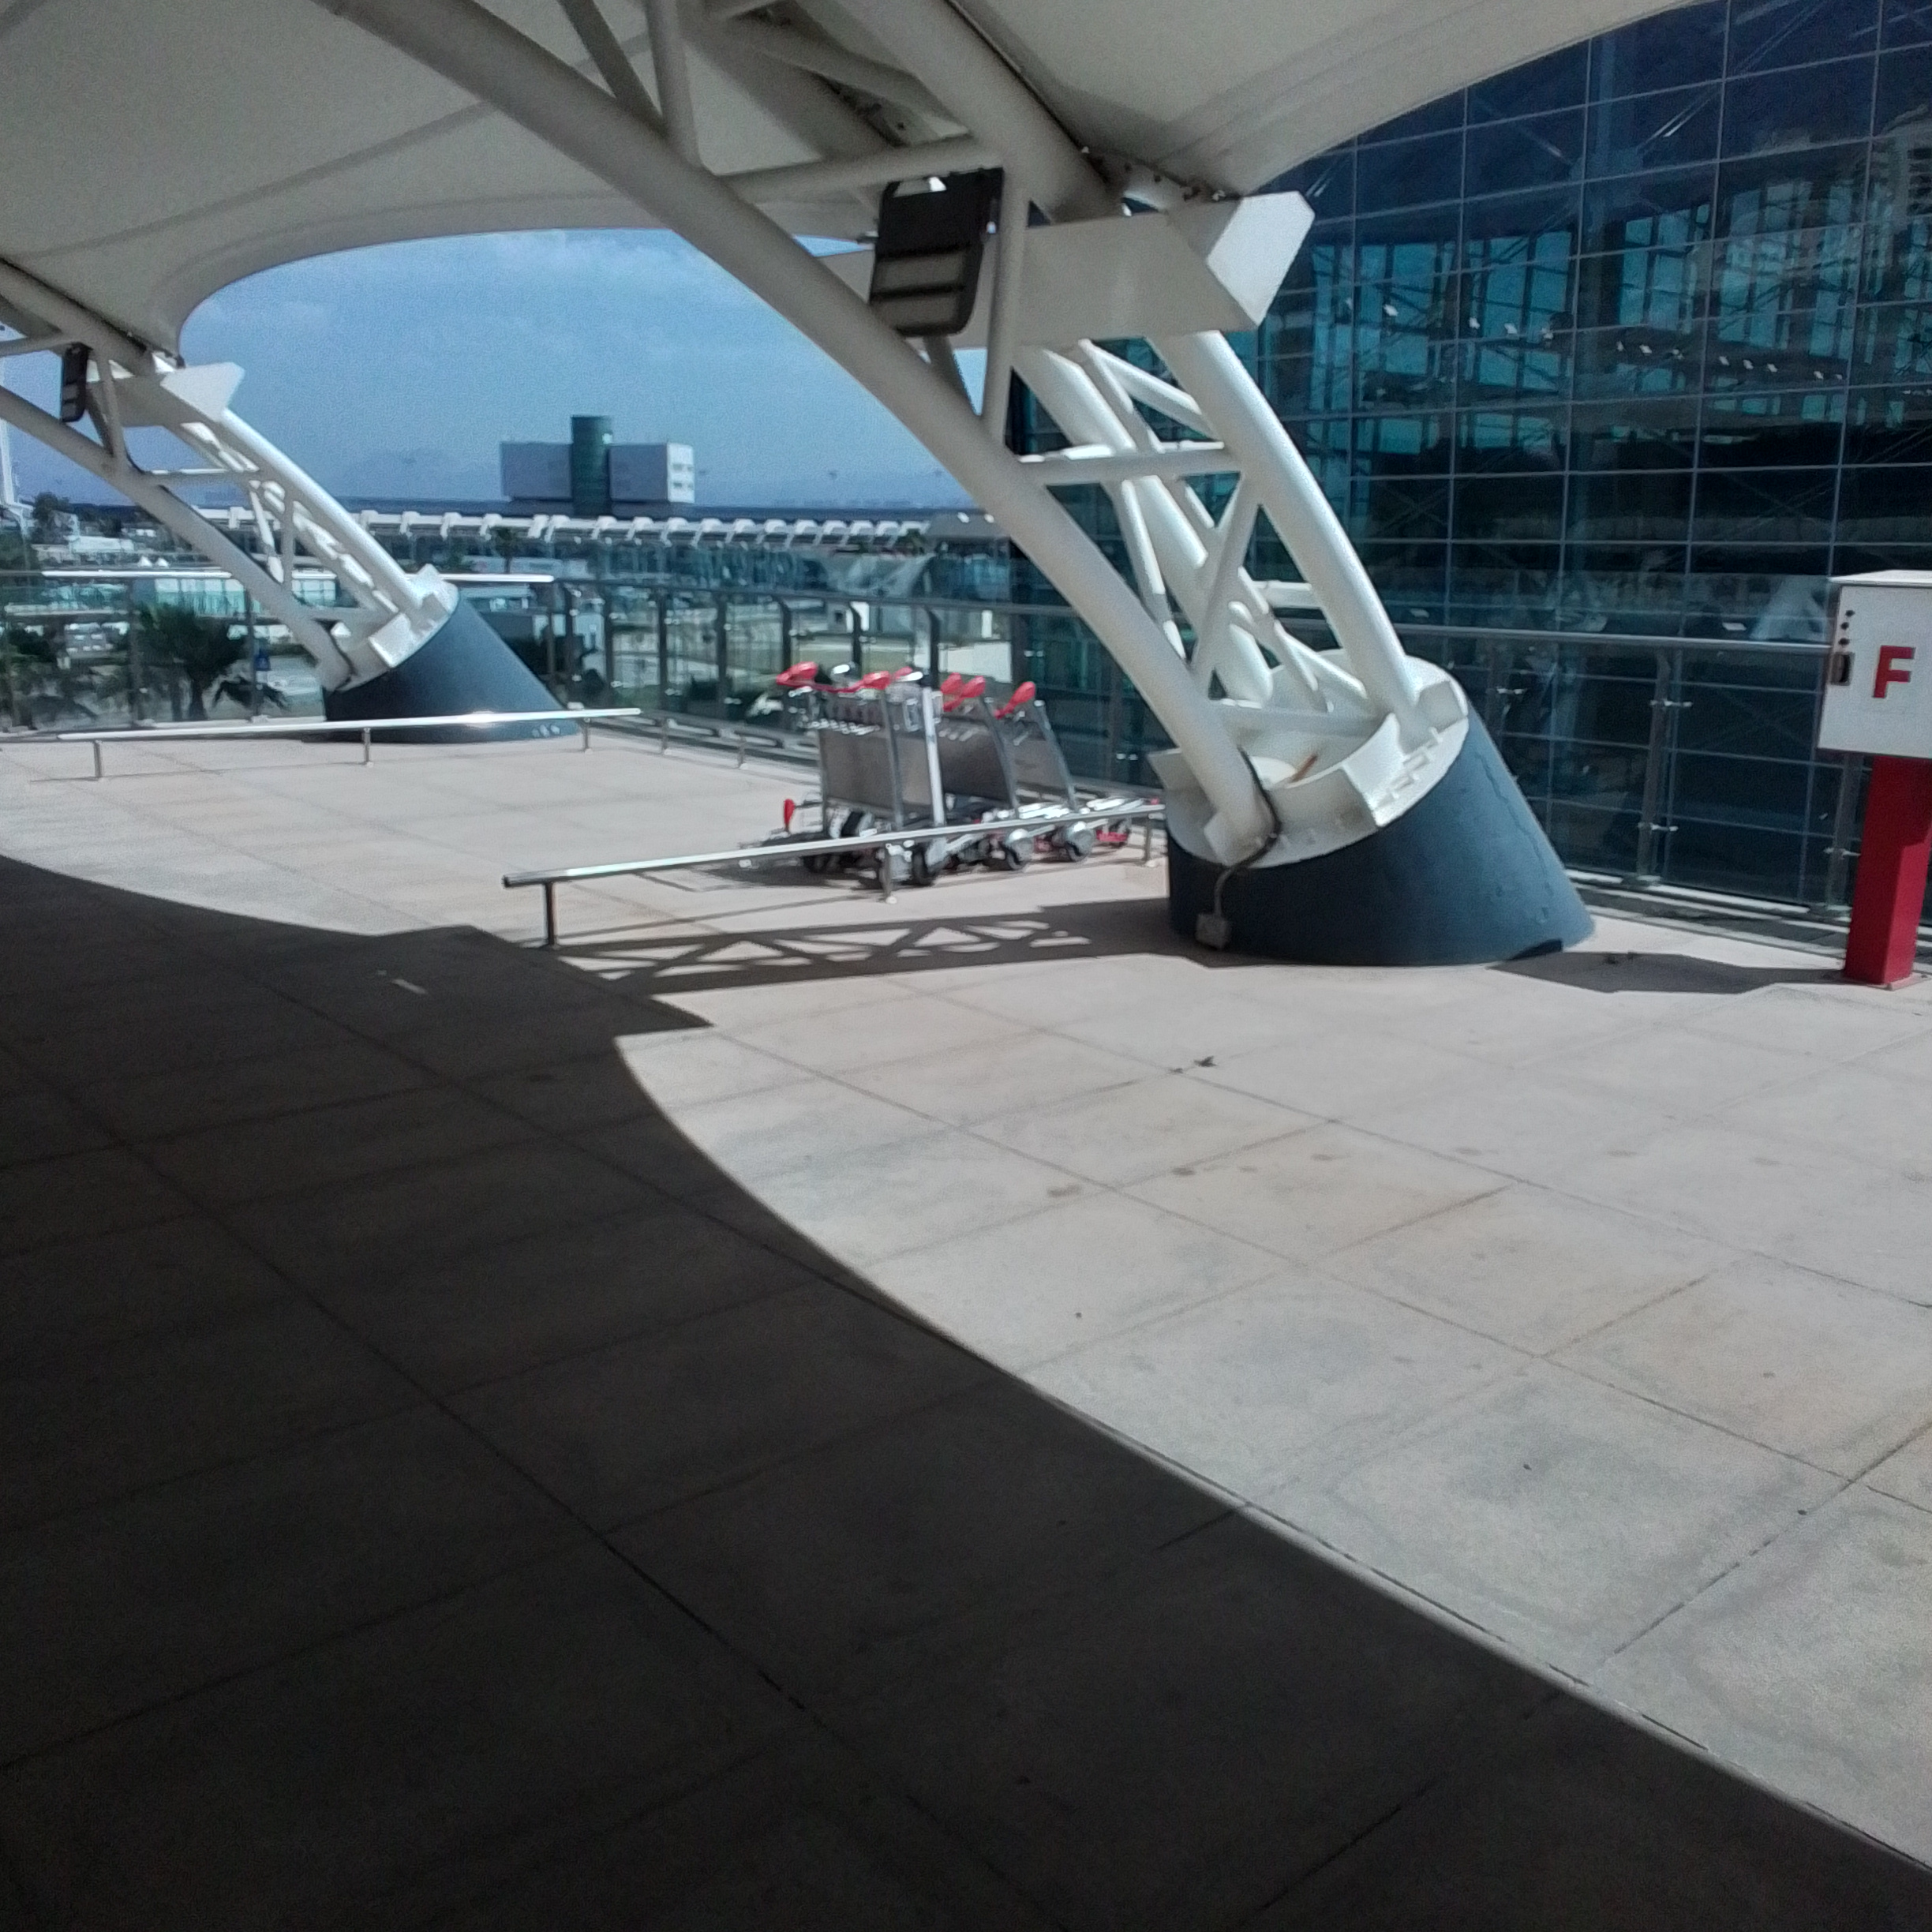airport-trolley: (752, 667, 909, 885), (826, 658, 964, 892), (968, 674, 1134, 867)
